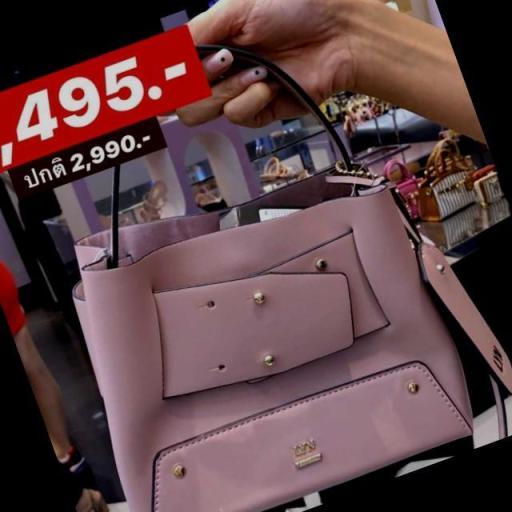bag: (50, 127, 498, 512)
